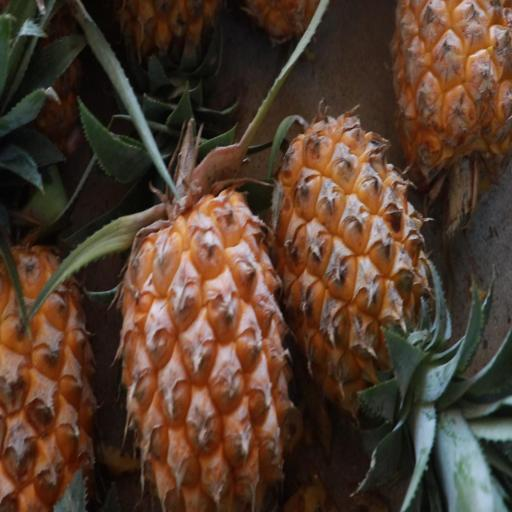Pineapple - v8 v1: (113, 115, 293, 512), (262, 109, 439, 439), (0, 196, 102, 511), (381, 0, 512, 239)
